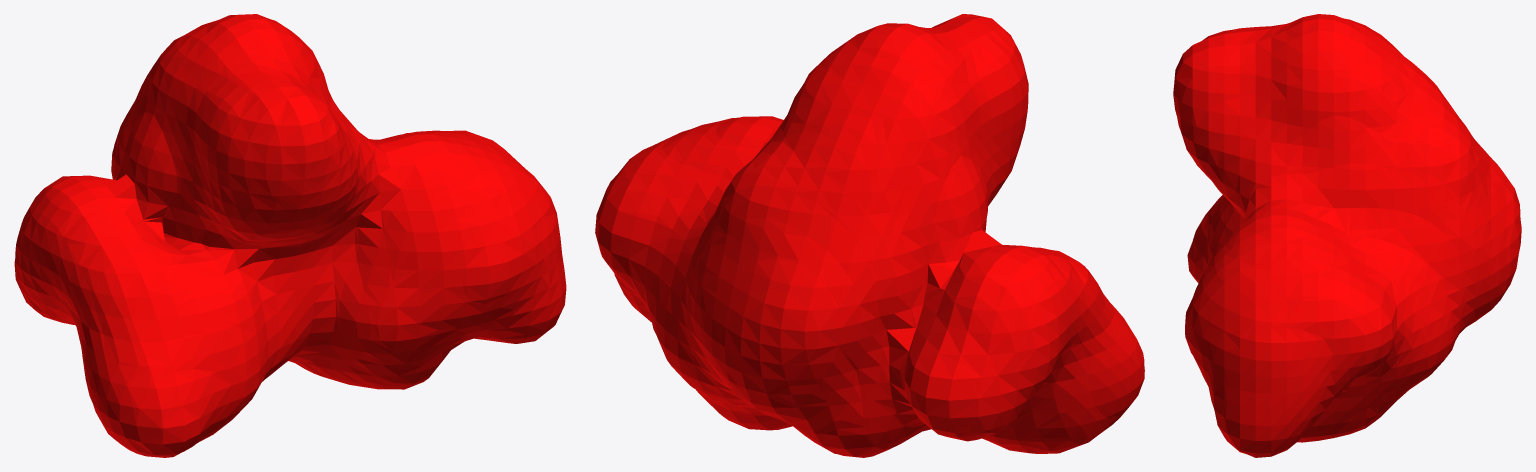
File: DnaJ_homolog_subfamily_C_membe_coarse.dae
3 views of the same model, side by side, from view 1: azimuth 30°, elevation 25°; view 2: azimuth 150°, elevation 25°; view 3: azimuth 270°, elevation 25° (orthographic). The views are drawn at different scales.
Visible parts, largest first — view 1: DnaJ_homolog_subfamily_C_membe; view 2: DnaJ_homolog_subfamily_C_membe; view 3: DnaJ_homolog_subfamily_C_membe.
Boxes of the visible parts, left/top/right/bottom form: DnaJ_homolog_subfamily_C_membe: left=14, top=14, right=566, bottom=457; DnaJ_homolog_subfamily_C_membe: left=595, top=14, right=1144, bottom=457; DnaJ_homolog_subfamily_C_membe: left=1173, top=14, right=1521, bottom=457.
Size of the model in its own units: 53.6 by 42.89 by 37.7.
